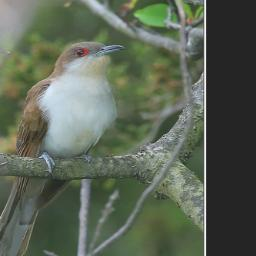Cuckoo: (0, 40, 127, 256)
